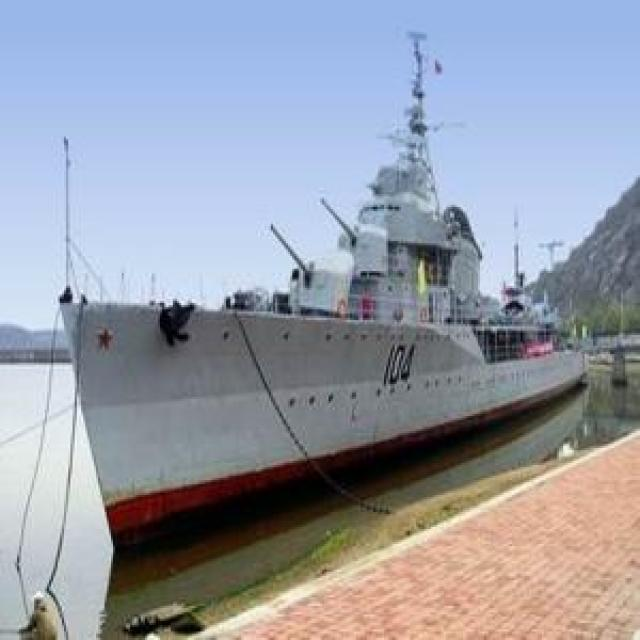navalvessels: (58, 34, 590, 538)
